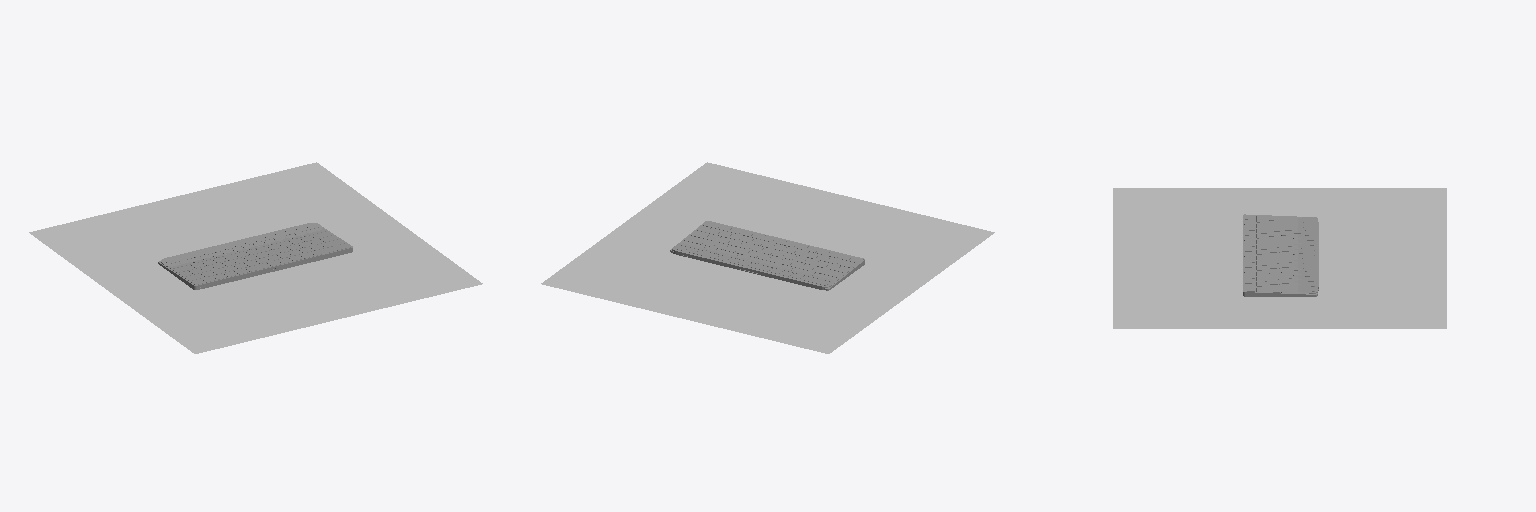
Rendered from Keyboard.obj.
3 renders of one model, left to right at view 1: azimuth 30°, elevation 25°; view 2: azimuth 150°, elevation 25°; view 3: azimuth 270°, elevation 25°, orthographic.
Visible parts, largest first — view 1: Plane, KeyboardBaru_Cube.003, KeyboardImac_Cube; view 2: Plane, KeyboardBaru_Cube.003, KeyboardImac_Cube; view 3: Plane, KeyboardBaru_Cube.003, KeyboardImac_Cube.
Boxes of the visible parts, <box> form: Plane: <box>29,162,482,353</box>; KeyboardBaru_Cube.003: <box>158,227,352,289</box>; KeyboardImac_Cube: <box>161,223,327,281</box>; Plane: <box>541,162,994,353</box>; KeyboardBaru_Cube.003: <box>670,221,864,290</box>; KeyboardImac_Cube: <box>672,243,836,289</box>; Plane: <box>1113,188,1446,328</box>; KeyboardBaru_Cube.003: <box>1243,214,1317,296</box>; KeyboardImac_Cube: <box>1294,217,1318,293</box>.
Size of the model in its own units: 17.64 by 0.3561 by 17.64.